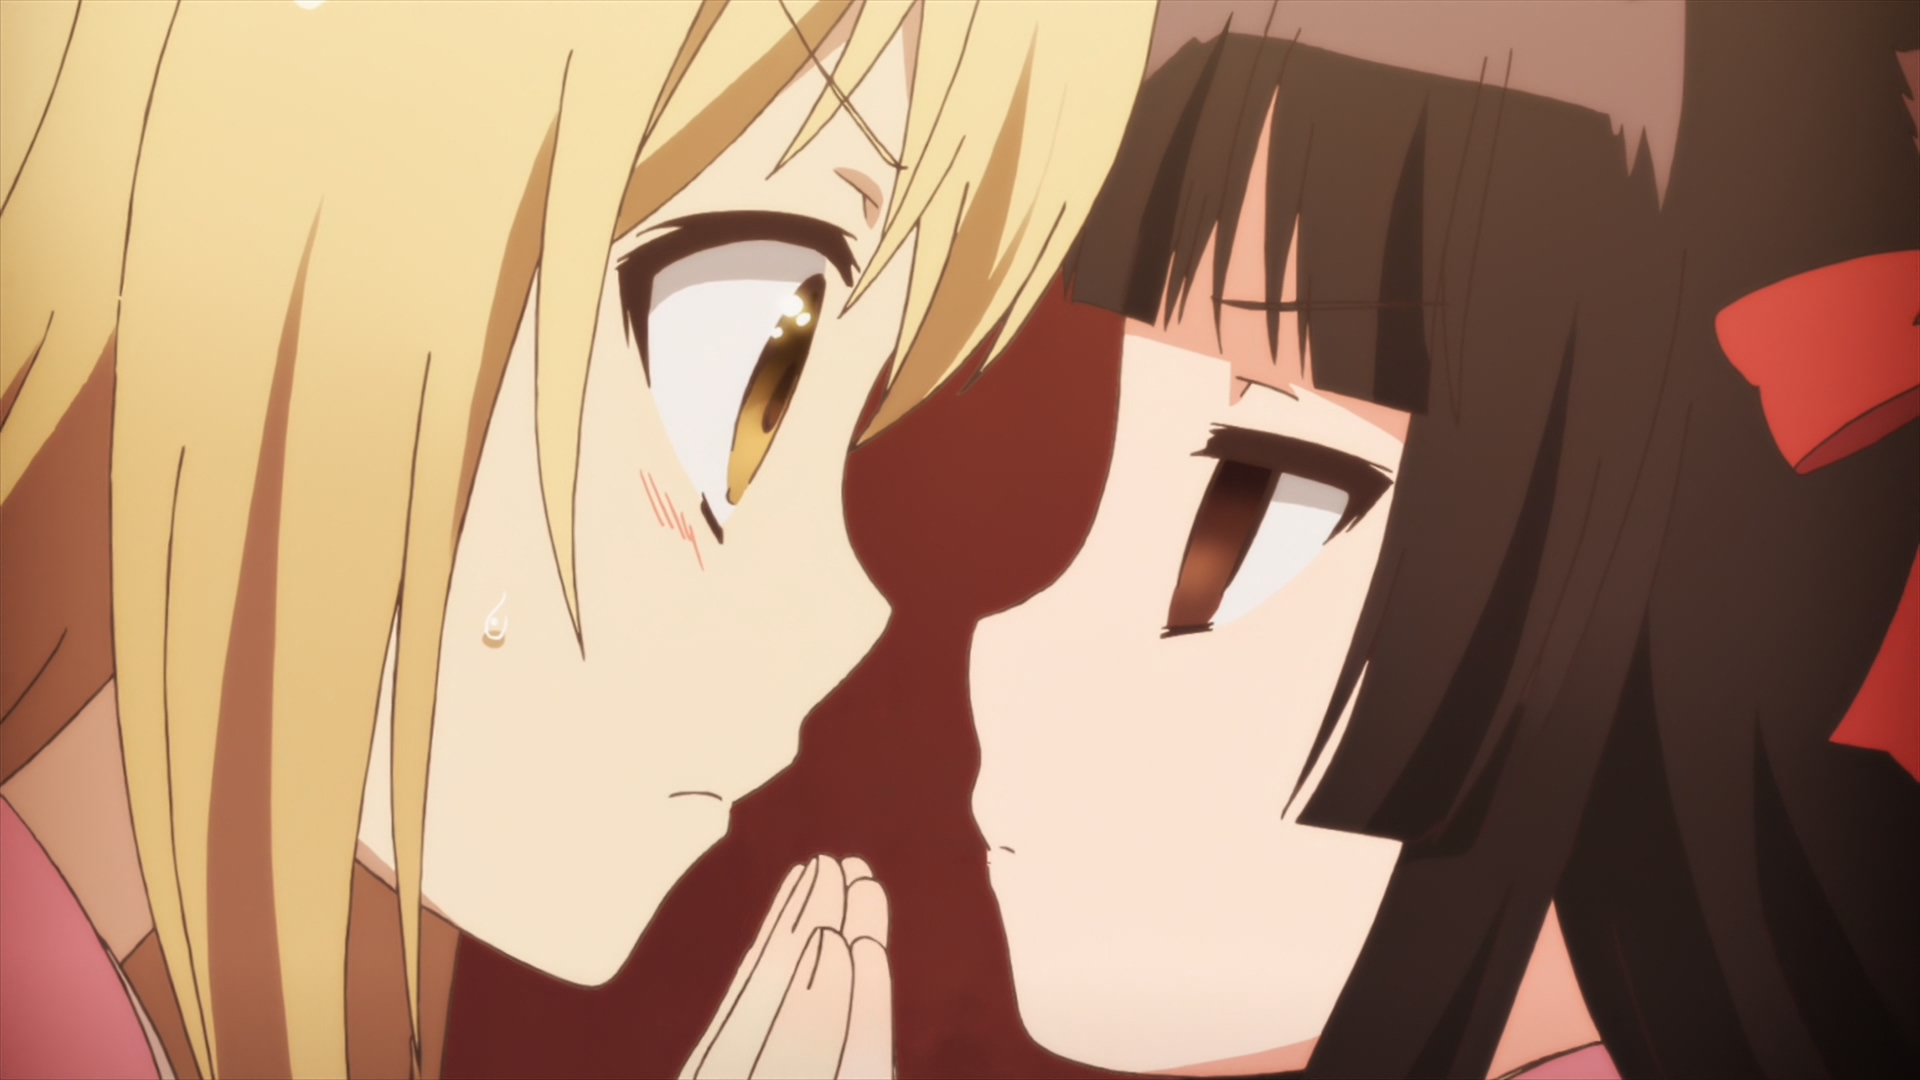柚: (1, 1, 1156, 1080)
樱: (837, 1, 1920, 1080)
